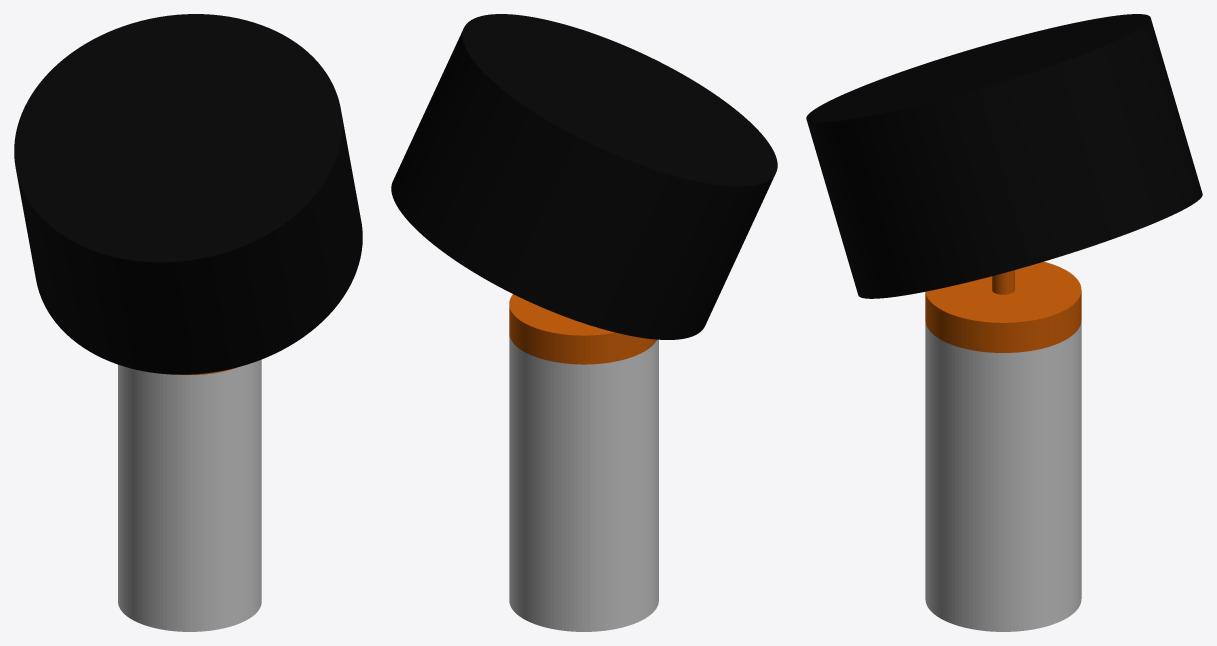
Rendered from lamp13.obj.
3 views of the same model, side by side, from view 1: azimuth 30°, elevation 25°; view 2: azimuth 150°, elevation 25°; view 3: azimuth 270°, elevation 25° (orthographic). The views are drawn at different scales.
Visible parts, largest first — view 1: Cylinder.002, Cylinder; view 2: Cylinder.002, Cylinder, Cylinder.001; view 3: Cylinder.002, Cylinder, Cylinder.001.
Boxes of the visible parts, x1,y1,x2,y2 form: Cylinder.002: (14,14,362,374); Cylinder: (118,359,261,631); Cylinder.002: (391,14,777,339); Cylinder: (509,335,658,631); Cylinder.001: (509,294,656,364); Cylinder.002: (806,14,1202,298); Cylinder: (925,320,1081,631); Cylinder.001: (925,261,1081,352).
Size of what is drawn, in the model's own units: 5.1 by 8.28 by 5.08.
